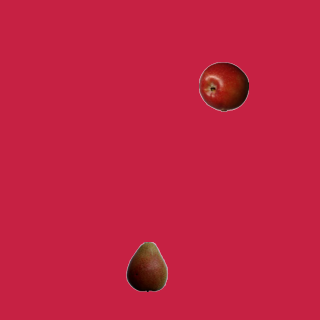Apple Braeburn: (198, 61, 248, 111)
Pear Forelle: (121, 241, 171, 291)
